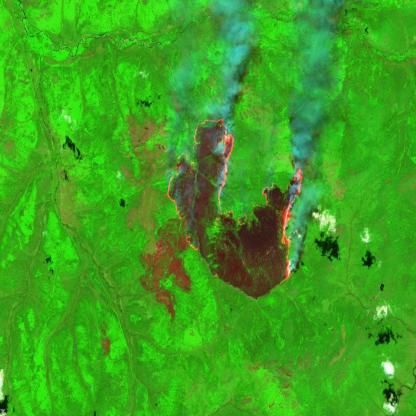fire: (167, 108, 304, 288)
